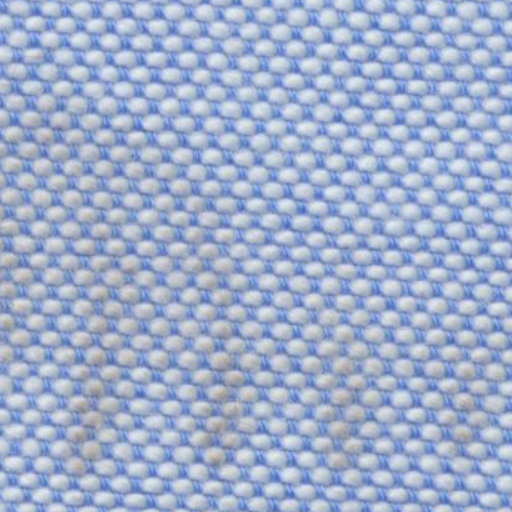WuZi: (8, 83, 496, 478)
